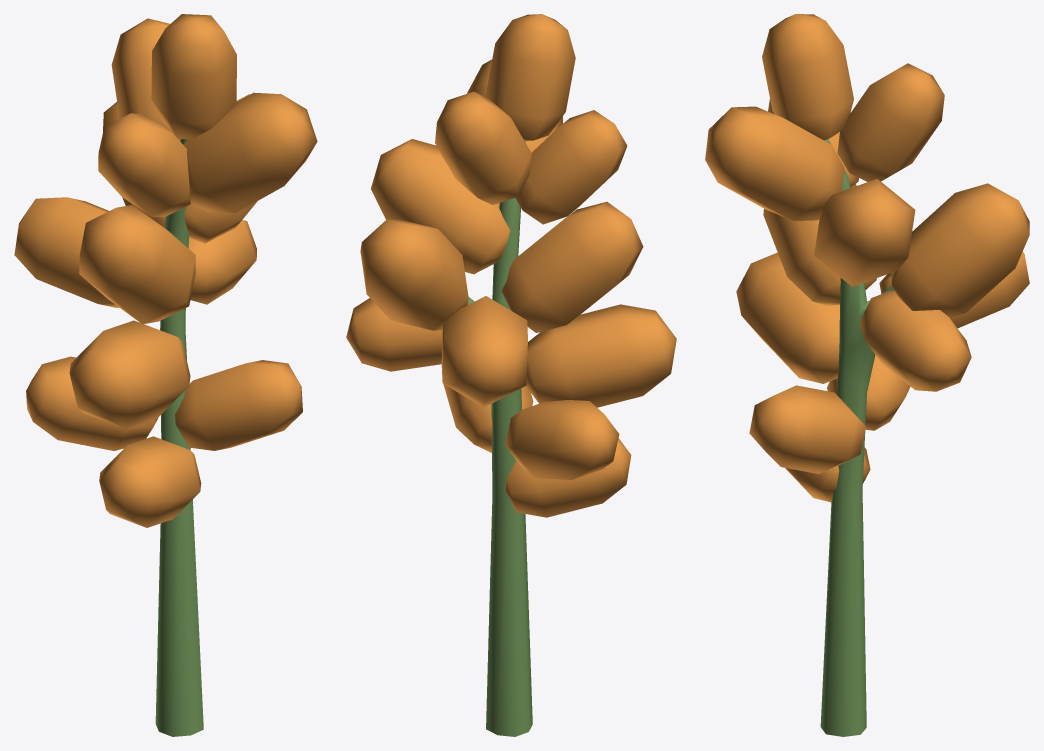
File: MOD_Flower02.fbx
The picture shows the model from 3 angles, left to right: view 1: azimuth 30°, elevation 25°; view 2: azimuth 150°, elevation 25°; view 3: azimuth 270°, elevation 25°; orthographic projection. The views are drawn at different scales.
Visible parts, largest first — view 1: MOD_Flower02; view 2: MOD_Flower02; view 3: MOD_Flower02.
Boxes of the visible parts, <box> form: MOD_Flower02: <box>14,14,317,736</box>; MOD_Flower02: <box>346,14,676,736</box>; MOD_Flower02: <box>705,14,1029,736</box>.
Bounding box in the file's own units: 4.34 × 11.56 × 4.8.
